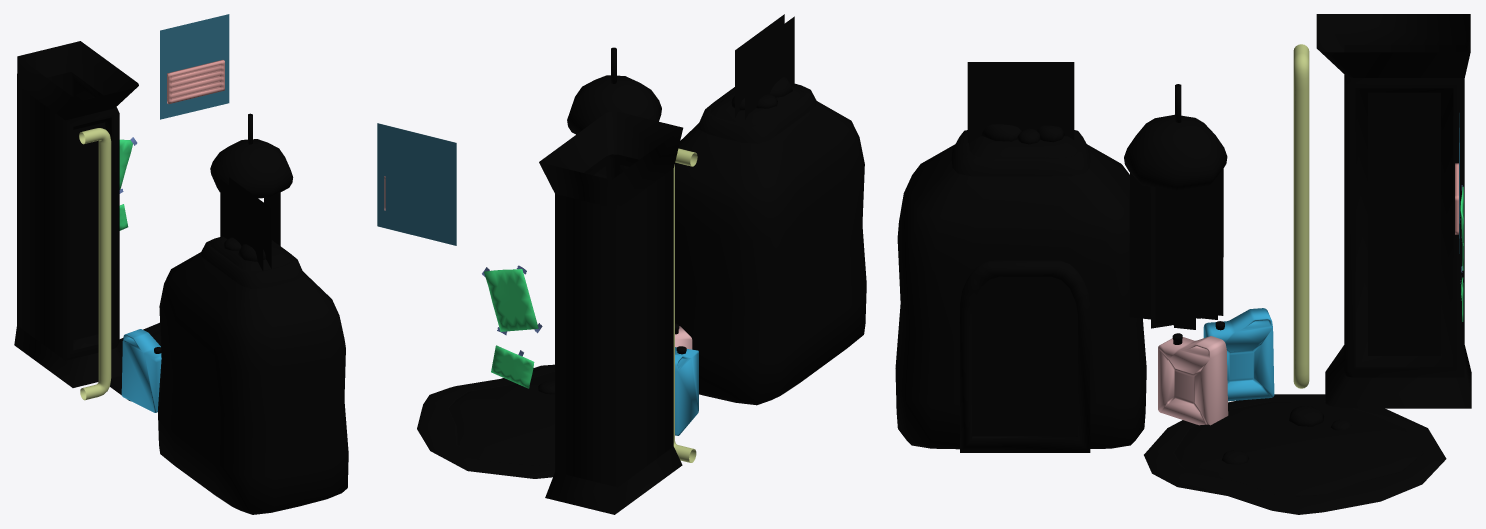
The model's file is F_schowek 3lvl.fbx.
3 renders of one model, left to right at view 1: azimuth 30°, elevation 25°; view 2: azimuth 150°, elevation 25°; view 3: azimuth 270°, elevation 25°, orthographic. The views are drawn at different scales.
Parts seen in each view (by area): view 1: schowek.002; view 2: schowek.002; view 3: schowek.002.
Boxes of the visible parts, x1,y1,x2,y2 form: schowek.002: (14, 14, 348, 514); schowek.002: (377, 14, 866, 514); schowek.002: (895, 14, 1471, 514).
Bounding box in the file's own units: 186 × 231 × 322.
